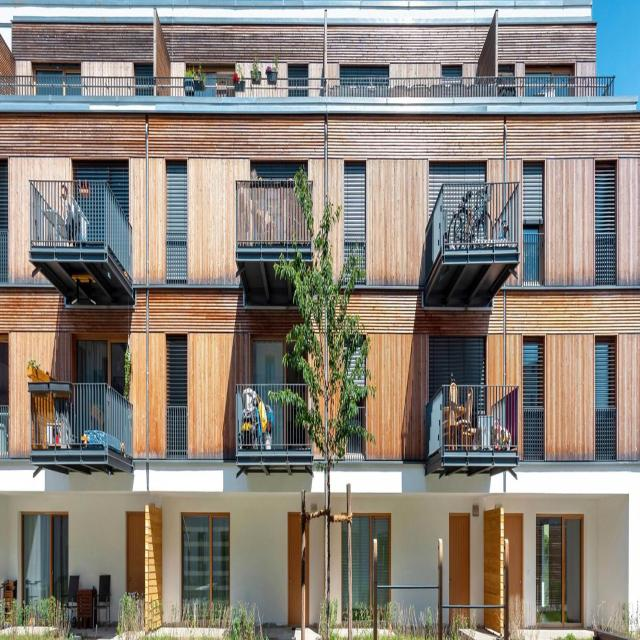door: (536, 511, 583, 625), (181, 512, 229, 620), (23, 509, 68, 618), (343, 518, 390, 621), (287, 505, 310, 620), (126, 509, 147, 622), (503, 510, 522, 630), (449, 510, 467, 625)
railing: (29, 175, 133, 289), (0, 78, 616, 97), (423, 175, 518, 286), (32, 385, 136, 466), (425, 378, 518, 459), (236, 379, 314, 453), (237, 181, 310, 247), (523, 229, 547, 294), (522, 405, 546, 461), (596, 238, 619, 288), (596, 406, 616, 459), (167, 413, 189, 459), (347, 403, 366, 454), (168, 245, 189, 286)
window: (74, 332, 127, 388), (253, 336, 306, 378), (345, 157, 368, 238), (594, 165, 620, 235), (523, 334, 545, 410), (595, 333, 617, 405), (166, 333, 186, 411), (167, 170, 187, 242), (524, 174, 544, 229)
